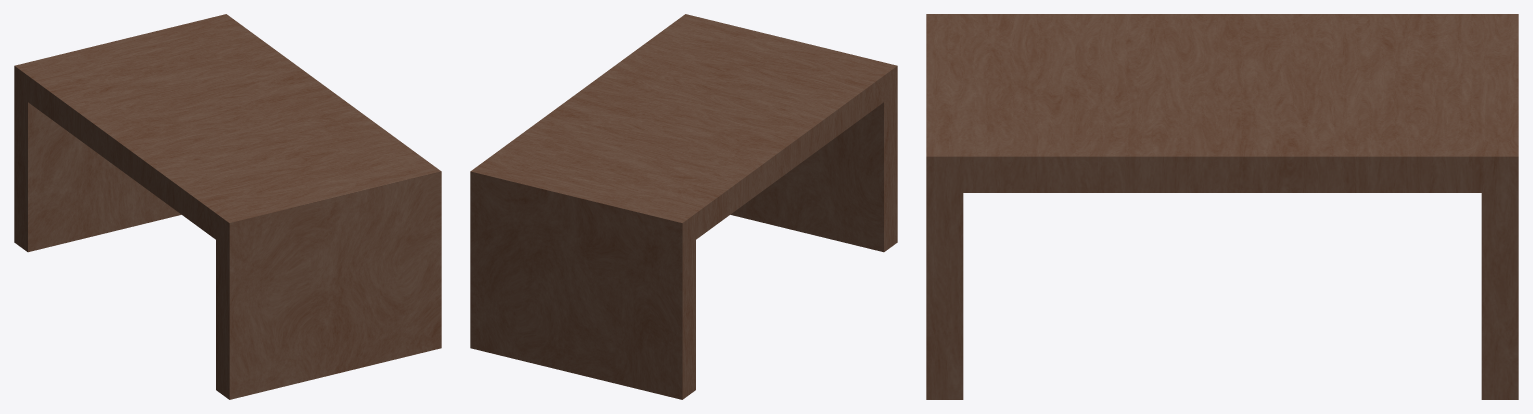
File: Computer Table.fbx
3 renders of one model, left to right at view 1: azimuth 30°, elevation 25°; view 2: azimuth 150°, elevation 25°; view 3: azimuth 270°, elevation 25°, orthographic. The views are drawn at different scales.
Visible parts, largest first — view 1: Baked Computer Table; view 2: Baked Computer Table; view 3: Baked Computer Table.
Boxes of the visible parts, box(x1,y1,x2,y2) form: Baked Computer Table: box(14, 14, 441, 399); Baked Computer Table: box(470, 14, 897, 399); Baked Computer Table: box(926, 14, 1518, 399).
Bounding box in the file's own units: 56.91 × 45.33 × 100.
Materials: 1 (1 with a texture image).
